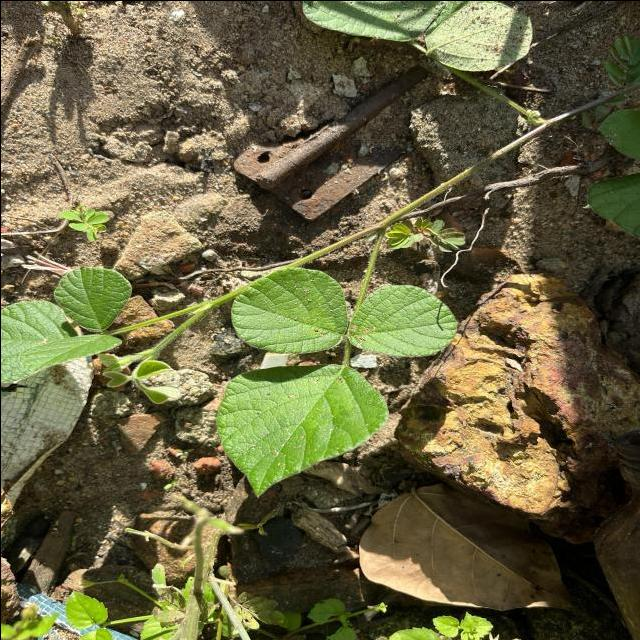Pseudarthria viscida: (212, 264, 460, 500)
